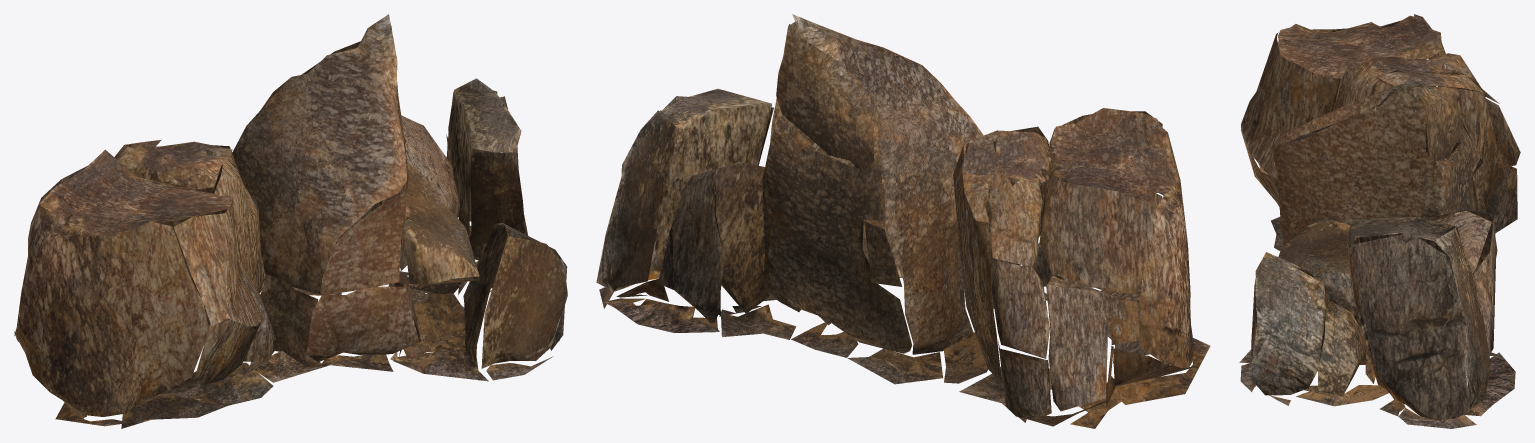
The model's file is rock_1.glb.
3 views of the same model, side by side, from view 1: azimuth 30°, elevation 25°; view 2: azimuth 150°, elevation 25°; view 3: azimuth 270°, elevation 25° (orthographic). The views are drawn at different scales.
Visible parts, largest first — view 1: Rock1; view 2: Rock1; view 3: Rock1.
Part boxes in pixels (left/top/right/bottom): Rock1: left=14, top=14, right=567, bottom=428; Rock1: left=596, top=14, right=1210, bottom=428; Rock1: left=1239, top=14, right=1520, bottom=428.
Bounding box in the file's own units: 0.9943 × 0.5435 × 0.4837.
1 material, 1 textured.
